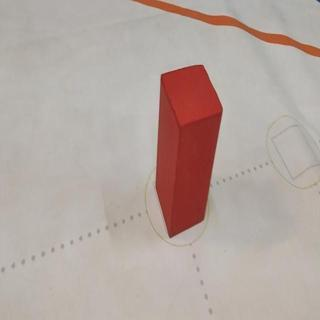redbox: (155, 62, 223, 238)
